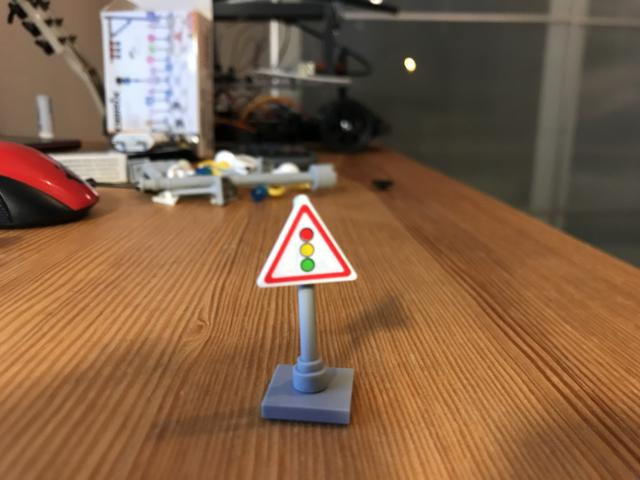lichtzeichenanlage: (254, 195, 360, 289)
